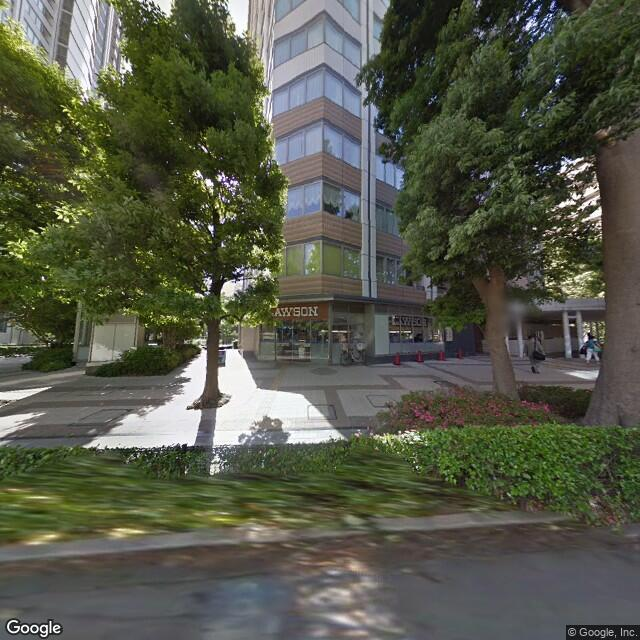lawson: (266, 296, 325, 324)
